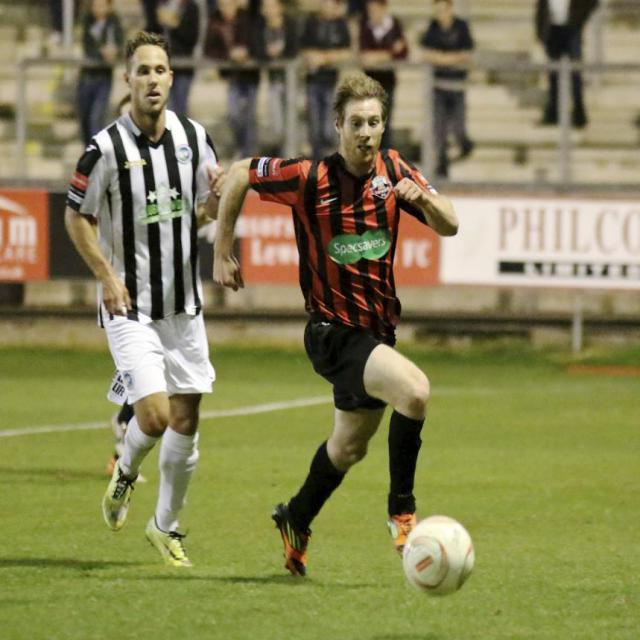football: (396, 513, 491, 600)
